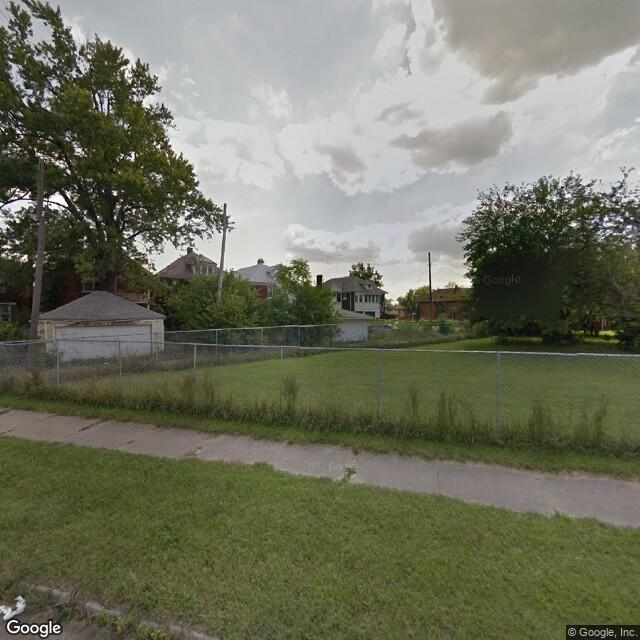litter: (1, 588, 32, 619)
